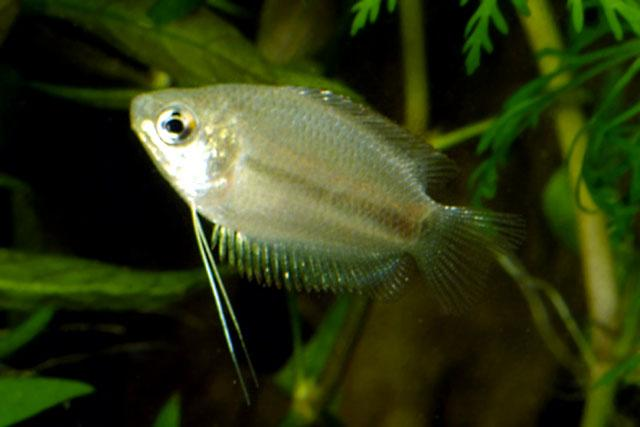Mulut: (116, 81, 160, 155)
Sirip Anal: (210, 214, 422, 308)
Sirip Ekor: (419, 188, 535, 332)
Sirip Perut: (182, 202, 274, 415)
Sirip Punggung: (280, 71, 474, 204)
